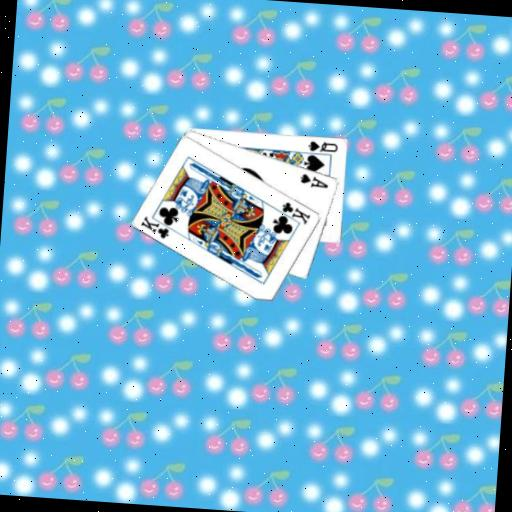AS: (297, 170, 331, 190)
KC: (137, 212, 179, 241), (273, 198, 314, 227)
QS: (305, 137, 340, 154)
